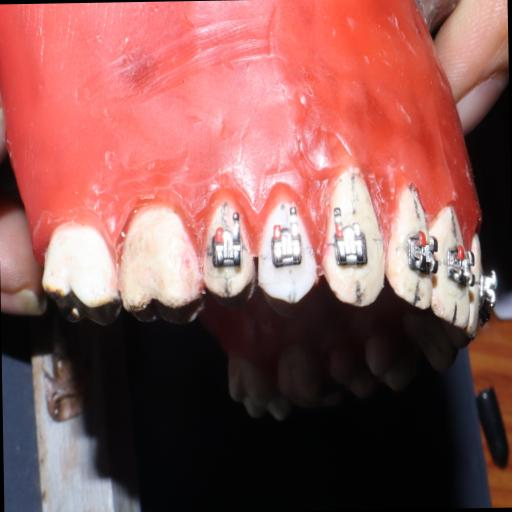incorrect_brace: (332, 218, 370, 273)
